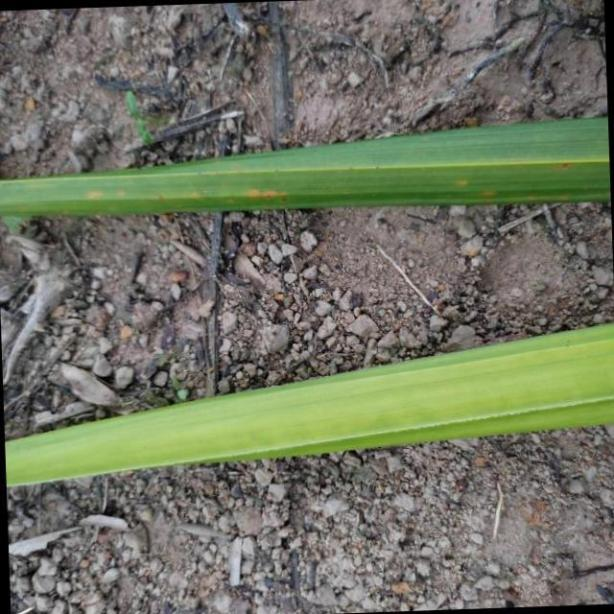nitrogen: (0, 324, 614, 488), (0, 115, 614, 224)
